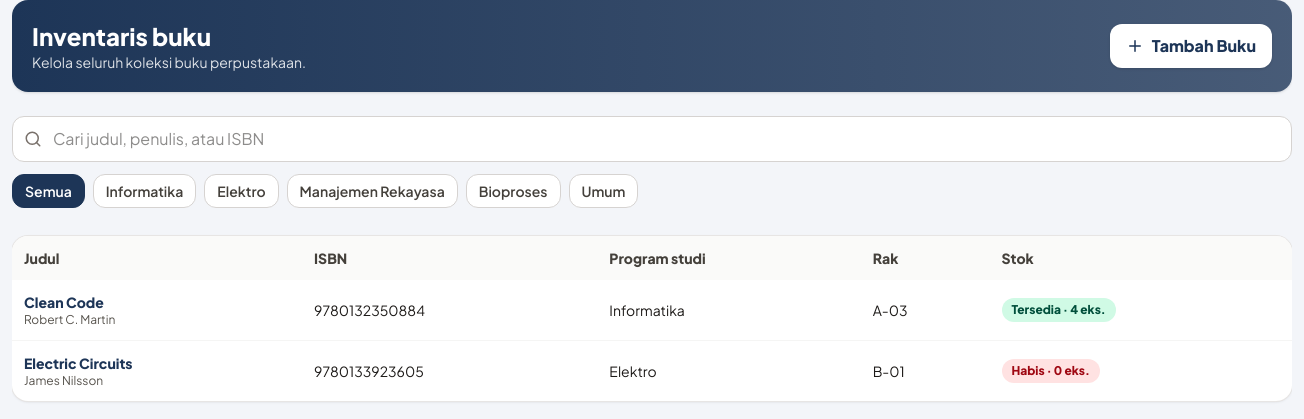
InventoryPage (staf) › searches and filters
The width and height of the screenshot is (1304, 419).
Expected: the link "Clean Code" is shown, [24, 293, 104, 311]
Type "electric" into the search field named "Cari buku" at (652, 139), box [12, 116, 1292, 162]
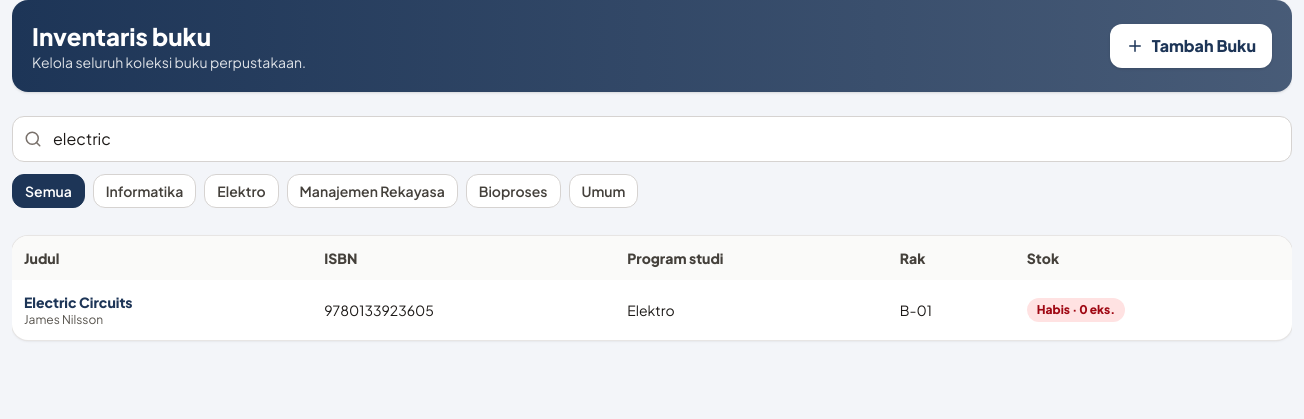
Result: the link "Clean Code" is gone
Replace the text in the search field named "Cari buku" with "zzz" at (652, 139), box [12, 116, 1292, 162]
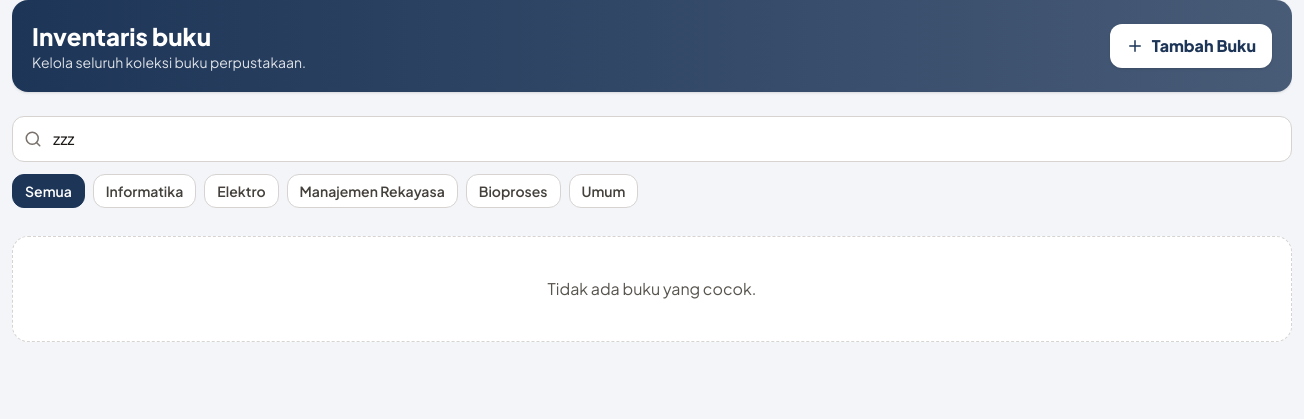
Result: the text "Tidak ada buku yang cocok." is shown at [12, 236, 1292, 342]
